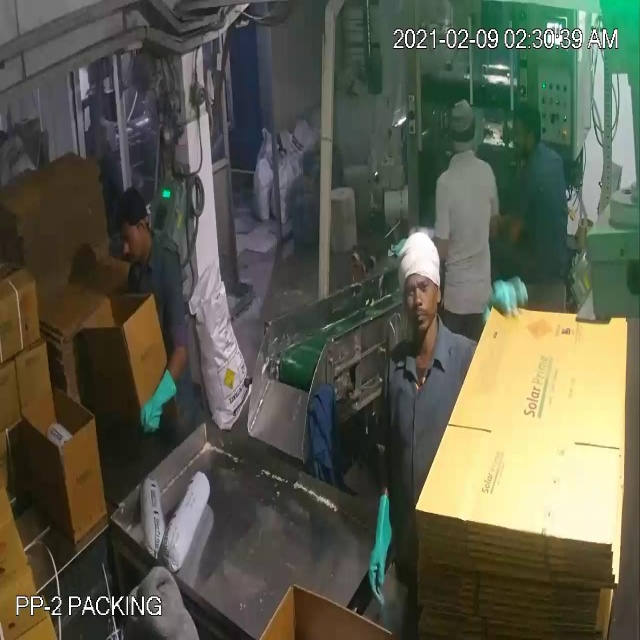Guantes: (350, 470, 407, 620), (130, 354, 184, 439)
